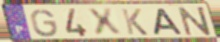4: (65, 7, 90, 38)
A: (153, 8, 185, 36)
G: (30, 8, 60, 38)
K: (120, 7, 150, 36)
N: (176, 6, 213, 37)
X: (85, 7, 125, 38)
